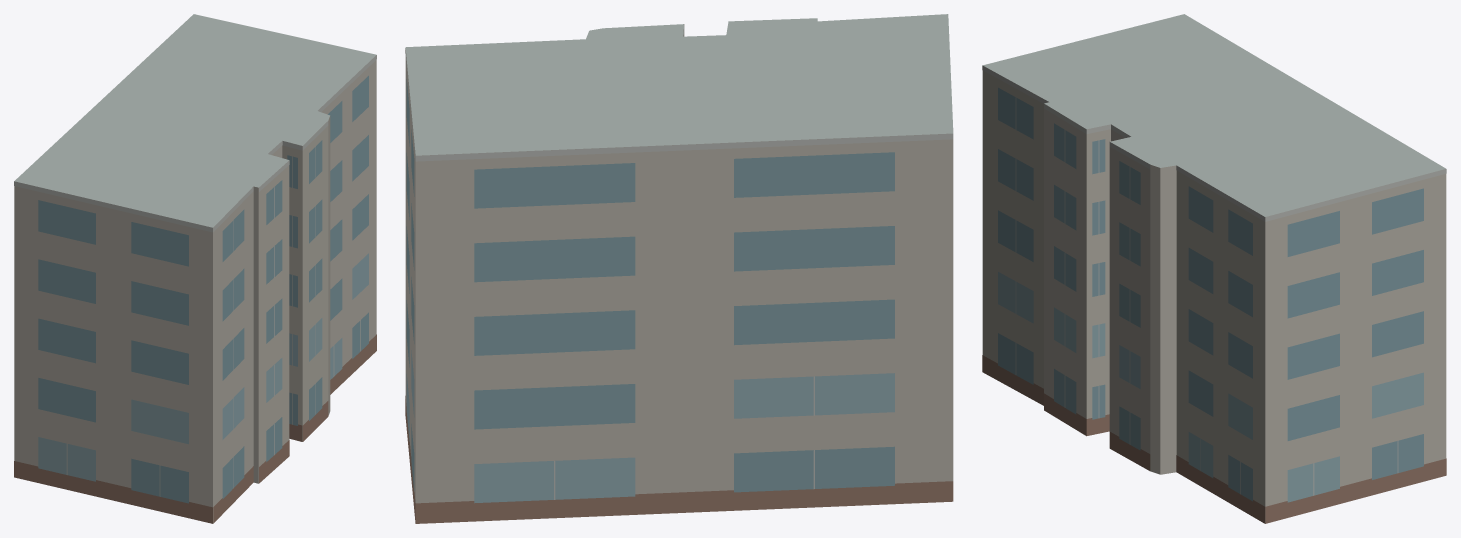
The model's file is survey-upis-33033518.glb.
3 views of the same model, side by side, from view 1: azimuth 30°, elevation 25°; view 2: azimuth 150°, elevation 25°; view 3: azimuth 270°, elevation 25° (orthographic). The views are drawn at different scales.
Visible parts, largest first — view 1: survey-upis-33033518.tmp; view 2: survey-upis-33033518.tmp; view 3: survey-upis-33033518.tmp.
Part boxes in pixels (bbox=[...]): survey-upis-33033518.tmp: bbox=[14, 14, 376, 523]; survey-upis-33033518.tmp: bbox=[405, 14, 953, 523]; survey-upis-33033518.tmp: bbox=[982, 14, 1446, 523].
Bounding box in the file's own units: 21.81 × 15.36 × 21.06.
